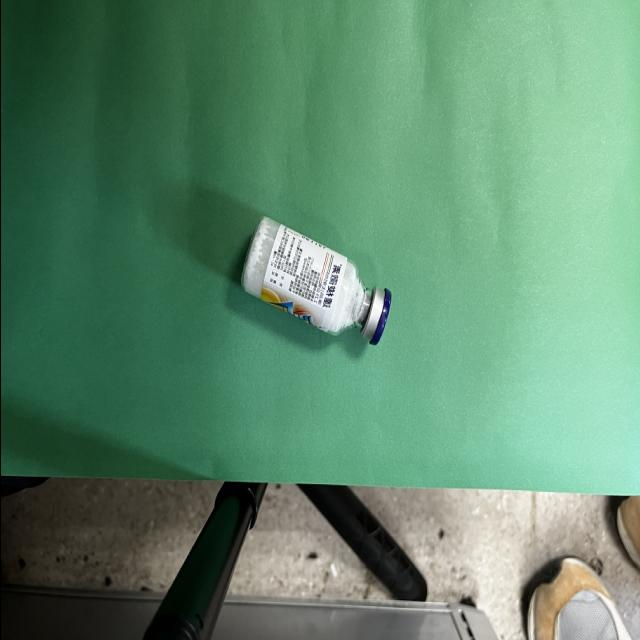Vials: (241, 215, 390, 345)
